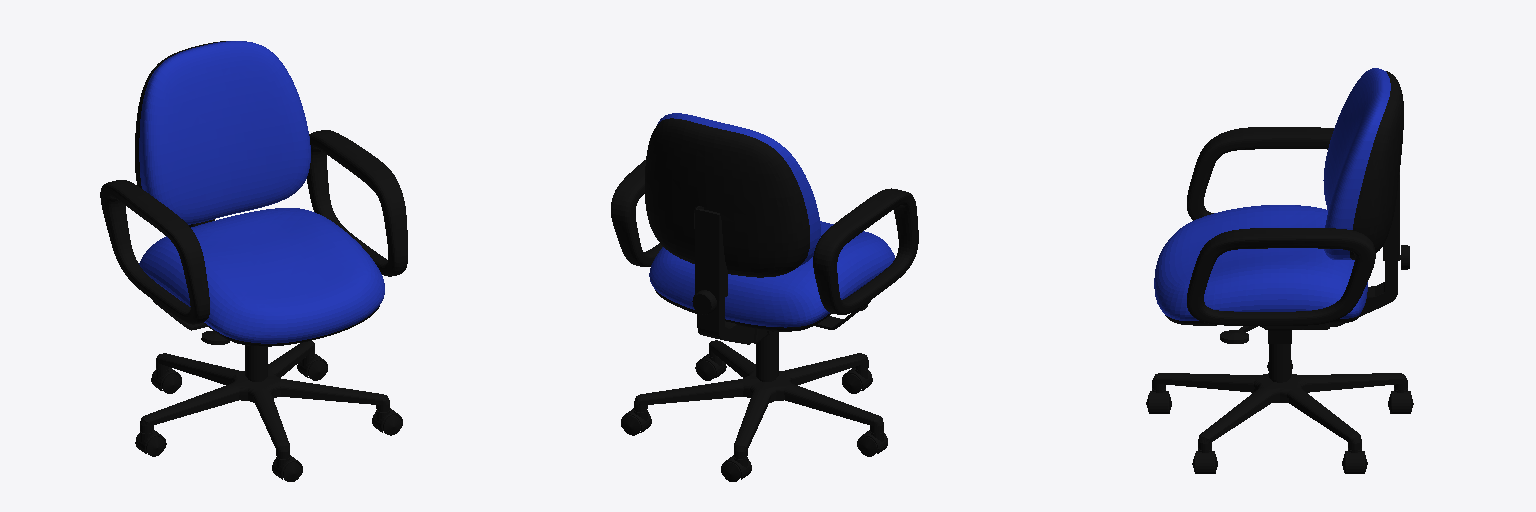
Rendered from myroom_office_chair.obj.
3 views of the same model, side by side, from view 1: azimuth 30°, elevation 25°; view 2: azimuth 150°, elevation 25°; view 3: azimuth 270°, elevation 25° (orthographic).
Visible parts, largest first — view 1: Office_CH_back, Office_CH_seat, Office_CH_arms, Office_CH_base, Office_CH_wheels, Office_CH_post; view 2: Office_CH_back, Office_CH_seat, Office_CH_arms, Office_CH_base, Office_CH_back_post, Office_CH_wheels, Office_CH_post; view 3: Office_CH_seat, Office_CH_arms, Office_CH_back, Office_CH_base, Office_CH_wheels, Office_CH_back_post, Office_CH_post, Office_CH_knobs, Office_CH_mount.
Part boxes in pixels (x1,y1,x2,y2): Office_CH_back: (135, 41, 310, 224); Office_CH_seat: (139, 208, 384, 346); Office_CH_arms: (100, 130, 407, 324); Office_CH_base: (140, 341, 389, 458); Office_CH_wheels: (135, 354, 402, 481); Office_CH_post: (245, 345, 267, 381); Office_CH_back: (645, 113, 820, 277); Office_CH_seat: (649, 221, 894, 331); Office_CH_arms: (611, 160, 918, 314); Office_CH_base: (634, 340, 883, 457); Office_CH_back_post: (695, 206, 754, 344); Office_CH_wheels: (621, 354, 887, 481); Office_CH_post: (756, 331, 778, 381); Office_CH_seat: (1154, 205, 1367, 325); Office_CH_arms: (1187, 127, 1375, 325); Office_CH_back: (1323, 68, 1403, 259); Office_CH_base: (1152, 373, 1407, 449); Office_CH_wheels: (1146, 360, 1413, 473); Office_CH_back_post: (1329, 172, 1399, 326); Office_CH_post: (1269, 344, 1290, 402); Office_CH_knobs: (1220, 245, 1409, 343); Office_CH_mount: (1260, 324, 1329, 343).
Bounding box in the file's own units: 8.41 × 11.88 × 8.41.